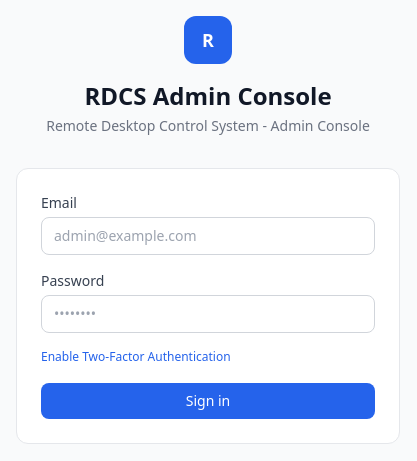
Test: LoginPage › shows loading state while submitting
Type "admin@test.com" into the field labelled "Email" at (208, 236), box [41,217,375,255]
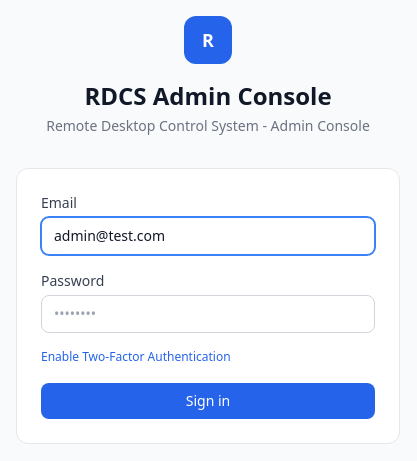
Type "password" into the password field labelled "Password" at (208, 314), box [41,295,375,333]
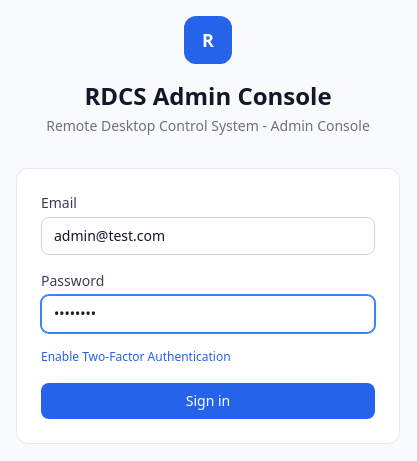
Click the button "Sign in" at (208, 401), box [41,383,375,419]
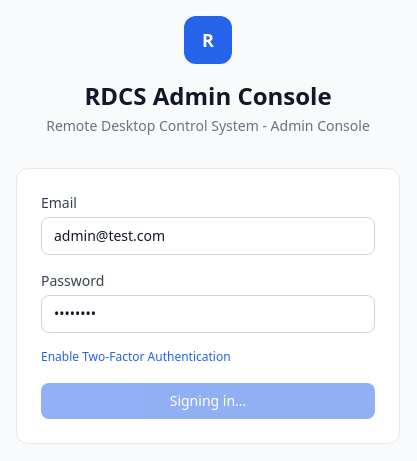
Result: the button "Signing in..." is disabled at [41,383,375,419]
